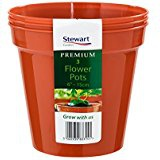flowerpot: (8, 2, 148, 157)
